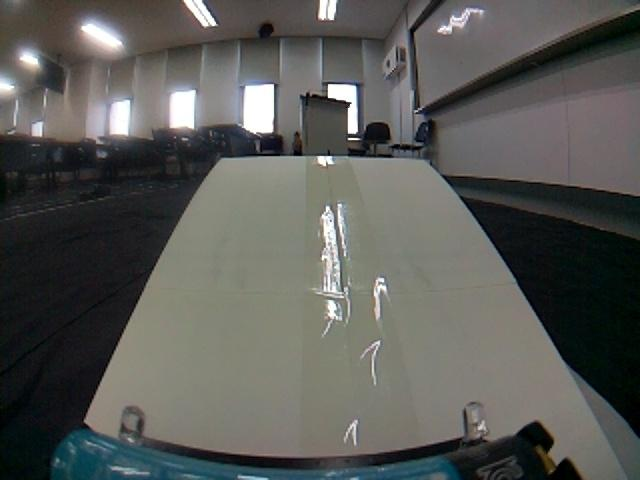hill_up: (7, 150, 628, 471)
